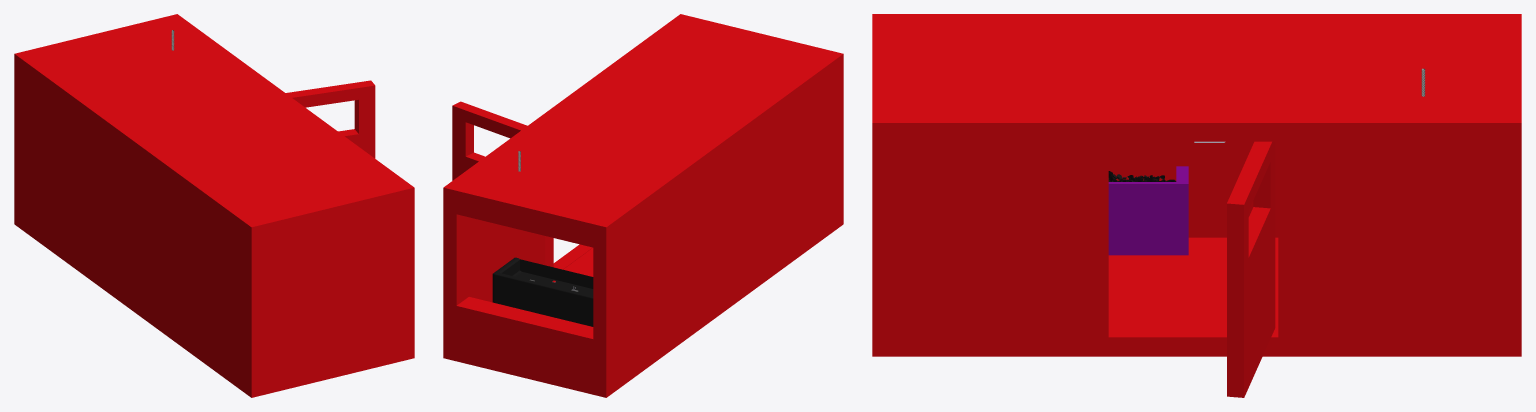
The model's file is Train_cabin.fbx.
The picture shows the model from 3 angles, left to right: view 1: azimuth 30°, elevation 25°; view 2: azimuth 150°, elevation 25°; view 3: azimuth 270°, elevation 25°; orthographic projection. The views are drawn at different scales.
Visible parts, largest first — view 1: Train_Cabin, Door; view 2: Train_Cabin, Train_Control_panel, Door; view 3: Train_Cabin, Door, Cube.
Boxes of the visible parts, x1,y1,x2,y2 form: Train_Cabin: (14,14,414,397); Door: (286,80,375,158); Train_Cabin: (443,14,843,397); Train_Control_panel: (492,257,593,326); Door: (452,101,553,267); Train_Cabin: (872,14,1521,356); Door: (1227,141,1275,397); Cube: (1108,166,1188,255).
Size of the model in its own units: 31147 by 22213 by 50097.
